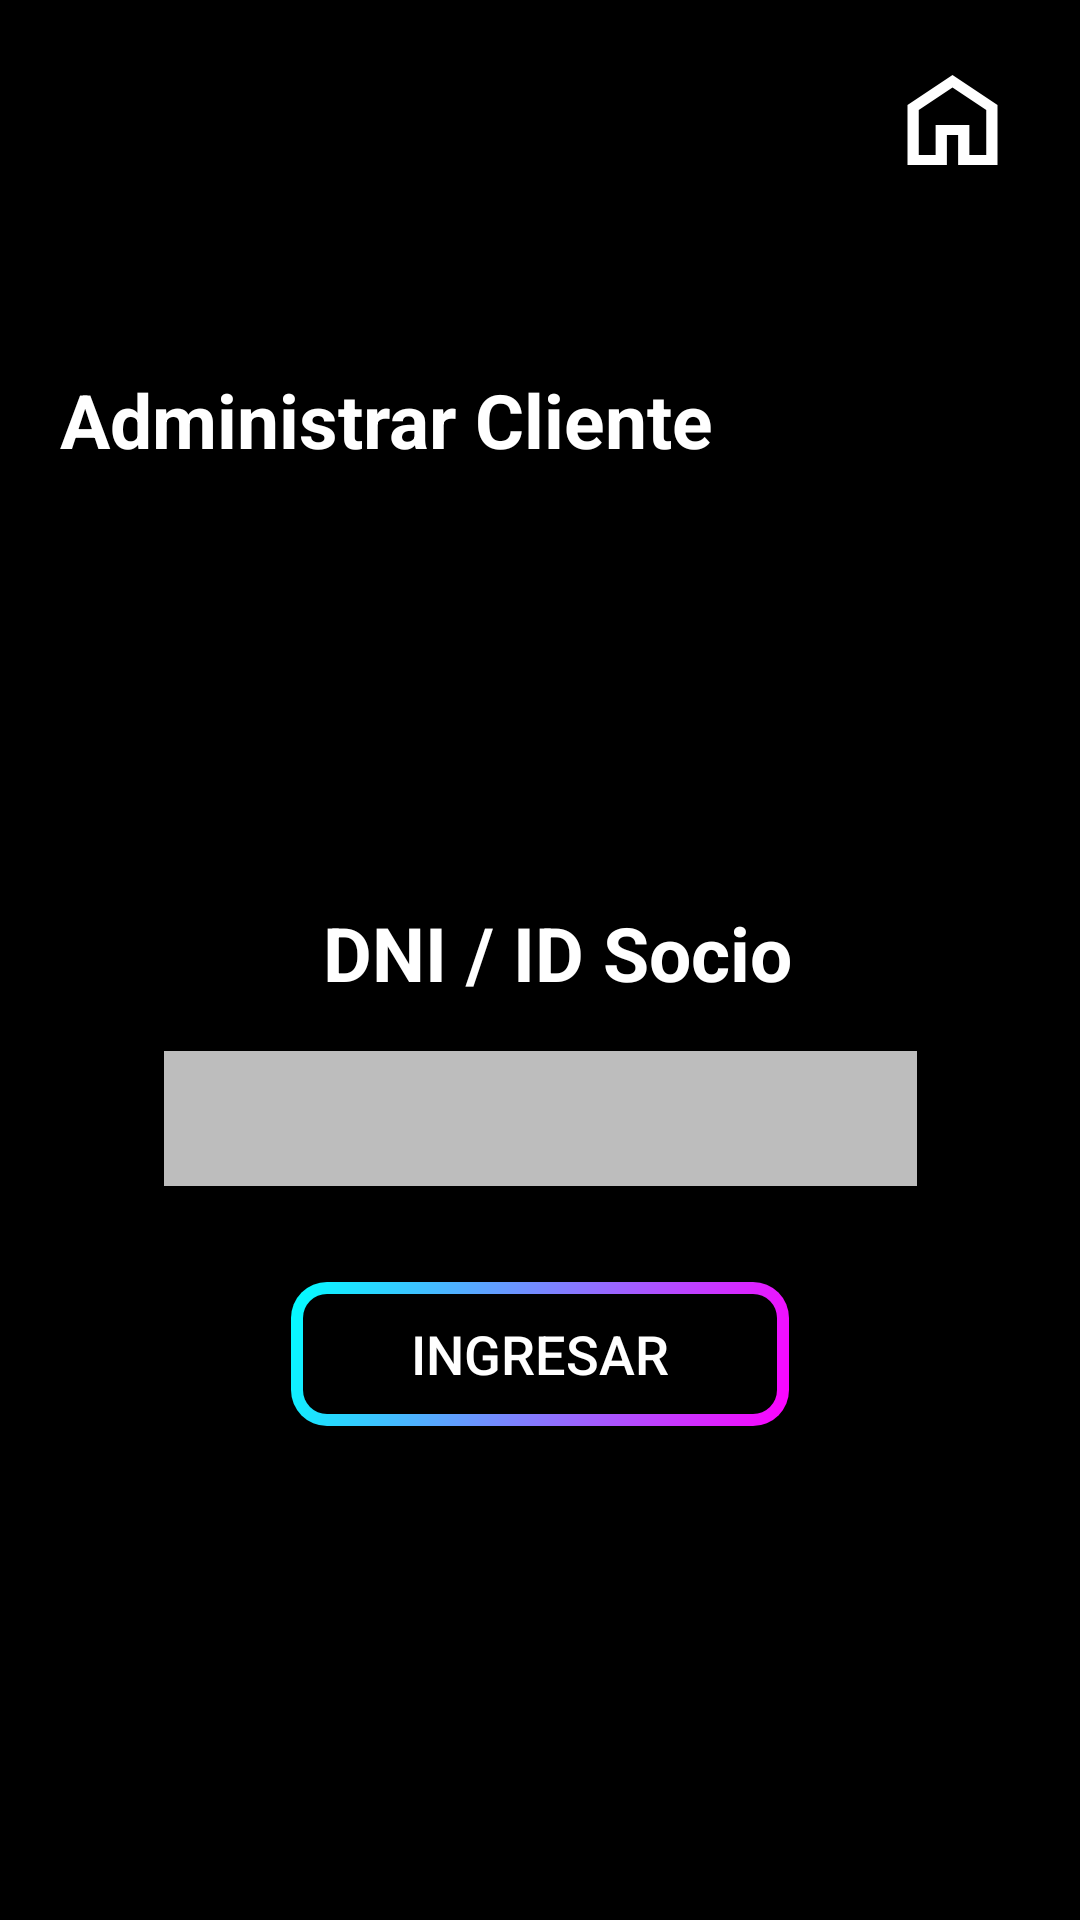

Where to tap for icons on this 1080w x 1920h app screen, as [x,y]:
Home: [952,120]
